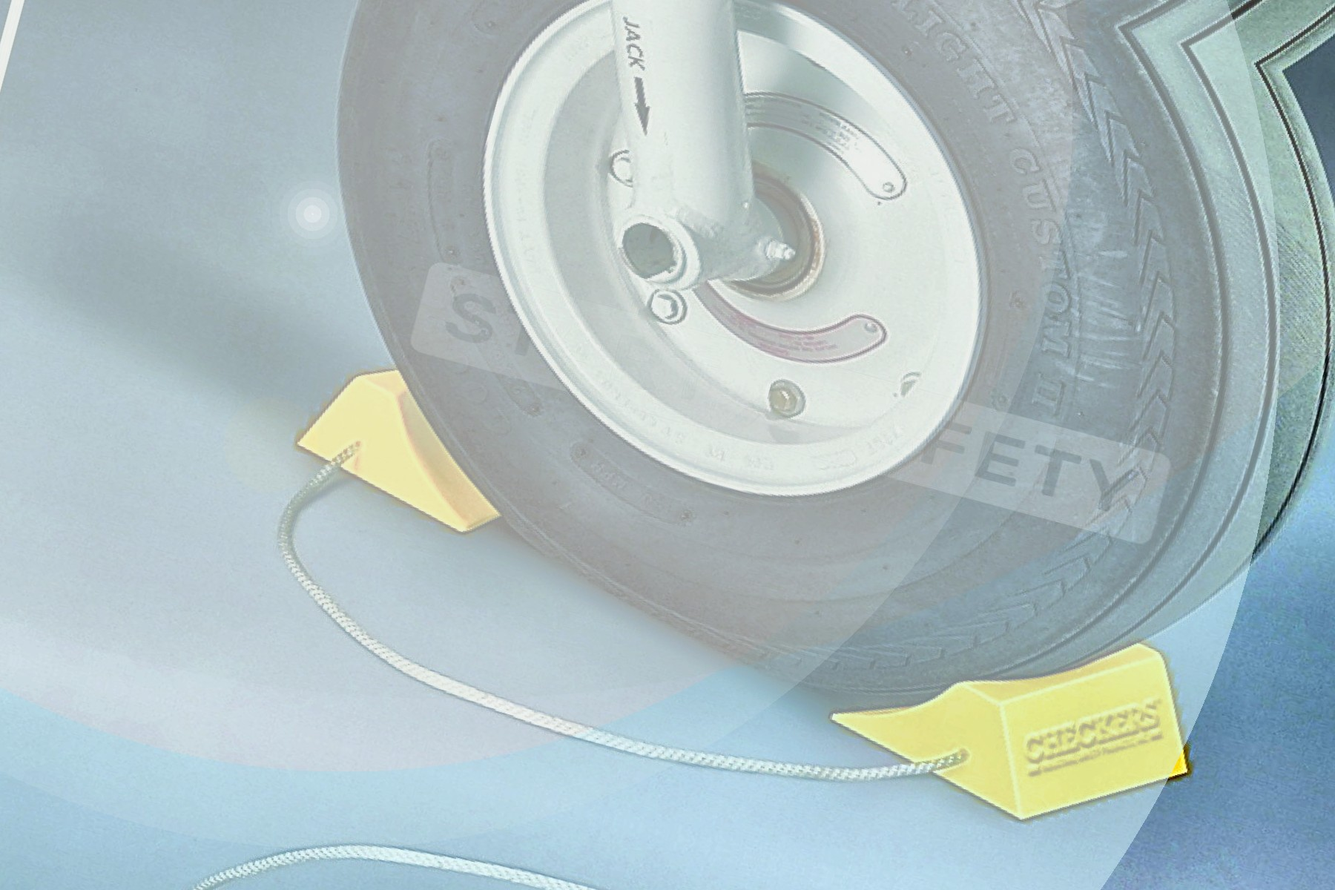chock: (813, 568, 1225, 864), (284, 345, 533, 543)
wheel: (206, 0, 1335, 805)
